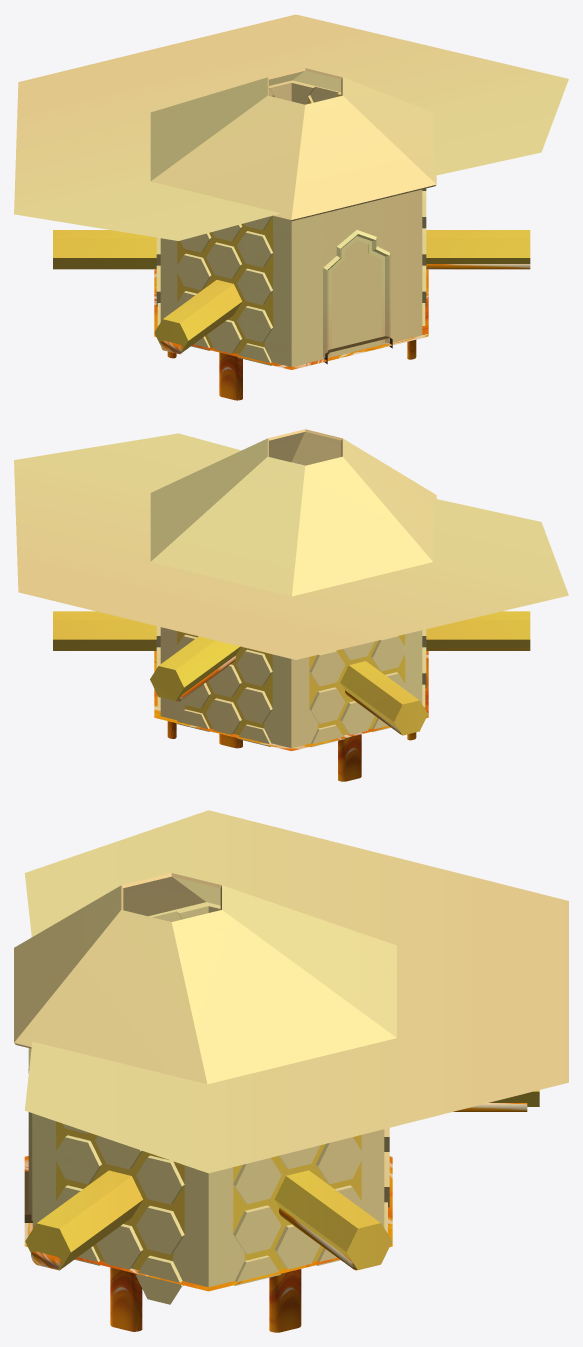
File: Queen_Chamber_Updated_brrrrrr.fbx
3 views of the same model, one above another, from view 1: azimuth 30°, elevation 25°; view 2: azimuth 150°, elevation 25°; view 3: azimuth 270°, elevation 25° (orthographic). The views are drawn at different scales.
Visible parts, largest first — view 1: room_walls, Chamber_Roof, Chamber_Door, HoneyFall, room_honeypool, HoneyFall.003; view 2: room_walls, Chamber_Roof, HoneyFall.001, room_honeypool, HoneyFall.004; view 3: room_walls, Chamber_Roof, HoneyFall.002, HoneyFall.003, room_honeypool.
Boxes of the visible parts, <box> form: room_walls: <box>14,14,568,366</box>; Chamber_Roof: <box>150,68,436,221</box>; Chamber_Door: <box>323,230,390,357</box>; HoneyFall: <box>160,313,242,400</box>; room_honeypool: <box>154,269,428,369</box>; HoneyFall.003: <box>407,264,530,359</box>; room_walls: <box>14,433,568,747</box>; Chamber_Roof: <box>150,429,436,596</box>; HoneyFall.001: <box>338,690,401,781</box>; room_honeypool: <box>154,651,428,751</box>; HoneyFall.004: <box>176,656,242,748</box>; room_walls: <box>24,810,568,1304</box>; Chamber_Roof: <box>14,873,396,1084</box>; HoneyFall.002: <box>269,1208,357,1332</box>; HoneyFall.003: <box>31,1251,142,1331</box>; room_honeypool: <box>24,1156,392,1291</box>.
Size of the model in its own units: 4755 by 2266 by 3070.
